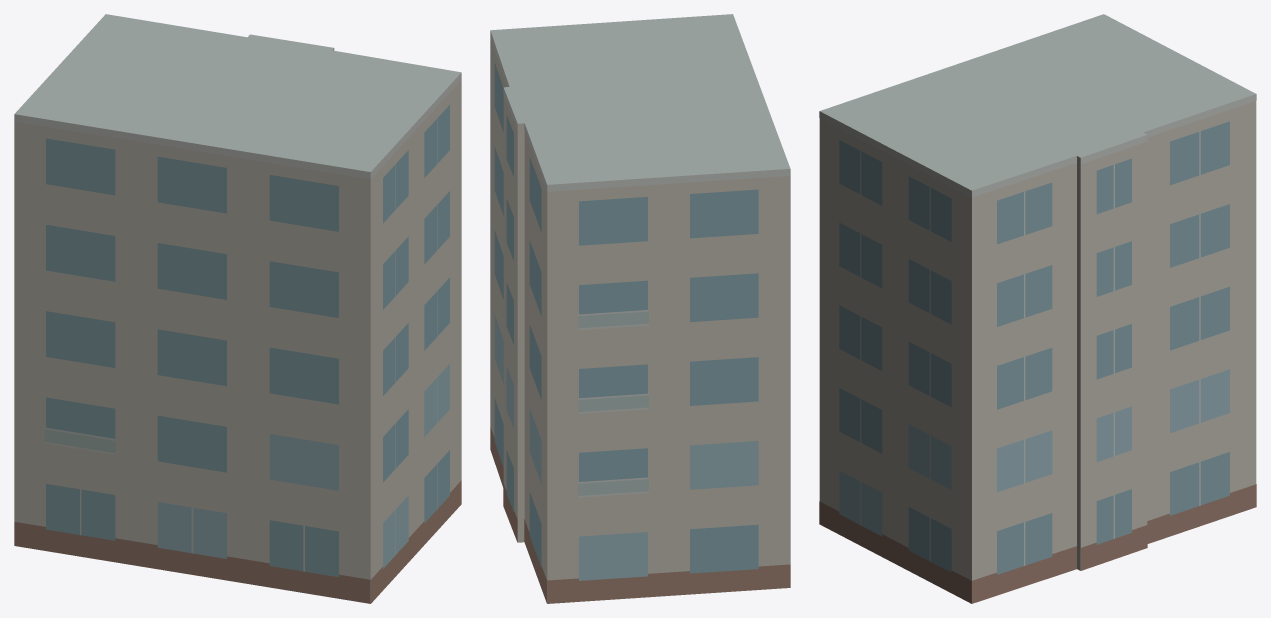
Rendered from survey-upis-32682518.glb.
3 renders of one model, left to right at view 1: azimuth 30°, elevation 25°; view 2: azimuth 150°, elevation 25°; view 3: azimuth 270°, elevation 25°, orthographic. The views are drawn at different scales.
Parts seen in each view (by area): view 1: survey-upis-32682518.tmp; view 2: survey-upis-32682518.tmp; view 3: survey-upis-32682518.tmp.
Part boxes in pixels (x1=…): survey-upis-32682518.tmp: x1=14, y1=14, x2=461, y2=603; survey-upis-32682518.tmp: x1=490, y1=14, x2=790, y2=603; survey-upis-32682518.tmp: x1=819, y1=14, x2=1256, y2=603.
Size of the model in its own units: 13.58 by 14.8 by 14.19.
